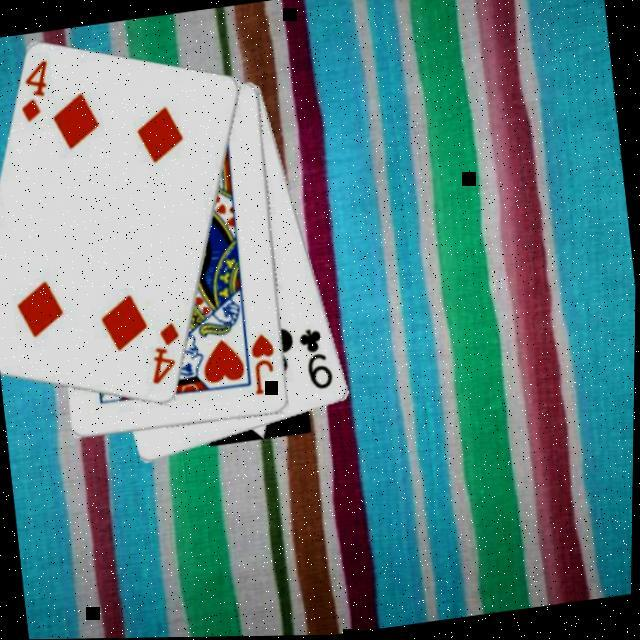4D: (10, 58, 57, 128), (142, 320, 188, 391)
9C: (293, 325, 338, 398)
JH: (244, 332, 282, 401)
